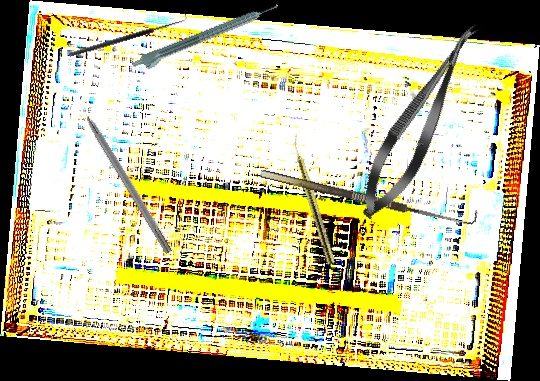Handpiece: (130, 1, 283, 76), (287, 132, 338, 266)
Hook Surgical: (259, 157, 479, 231), (73, 96, 175, 255), (67, 11, 188, 58)
Micro Scissor: (347, 12, 494, 229)
